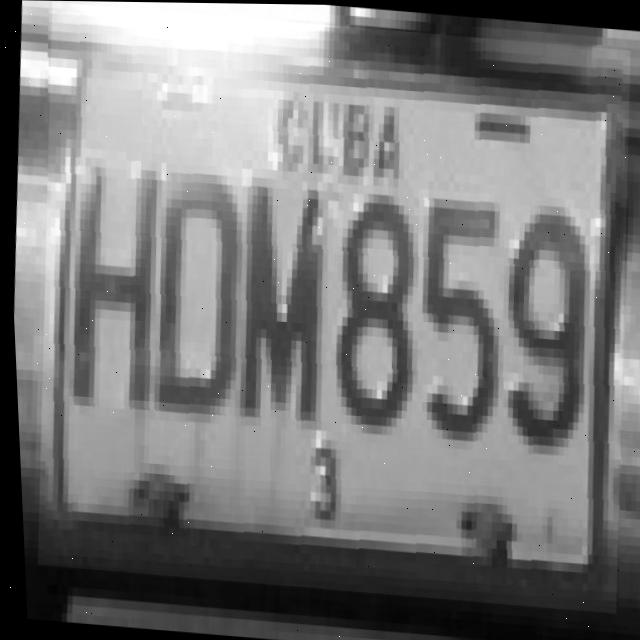LicensePlate: (12, 1, 640, 612)
